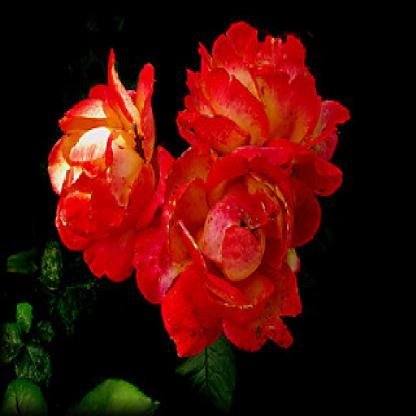ROSE-MAWAR: (47, 12, 351, 364)
